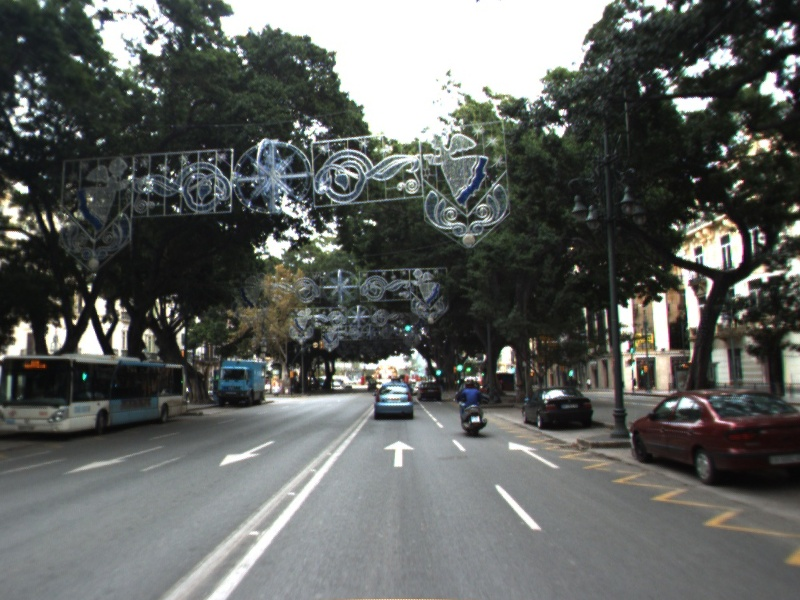STRAIGHT: (507, 440, 563, 471), (382, 439, 417, 469)
